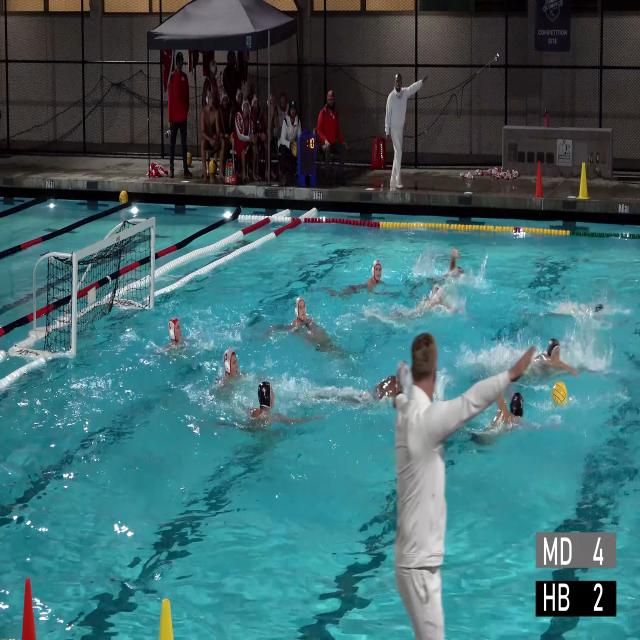ball: (552, 381, 567, 404), (120, 190, 128, 204), (209, 160, 217, 174), (292, 141, 298, 157), (187, 152, 192, 167), (230, 132, 234, 145)
